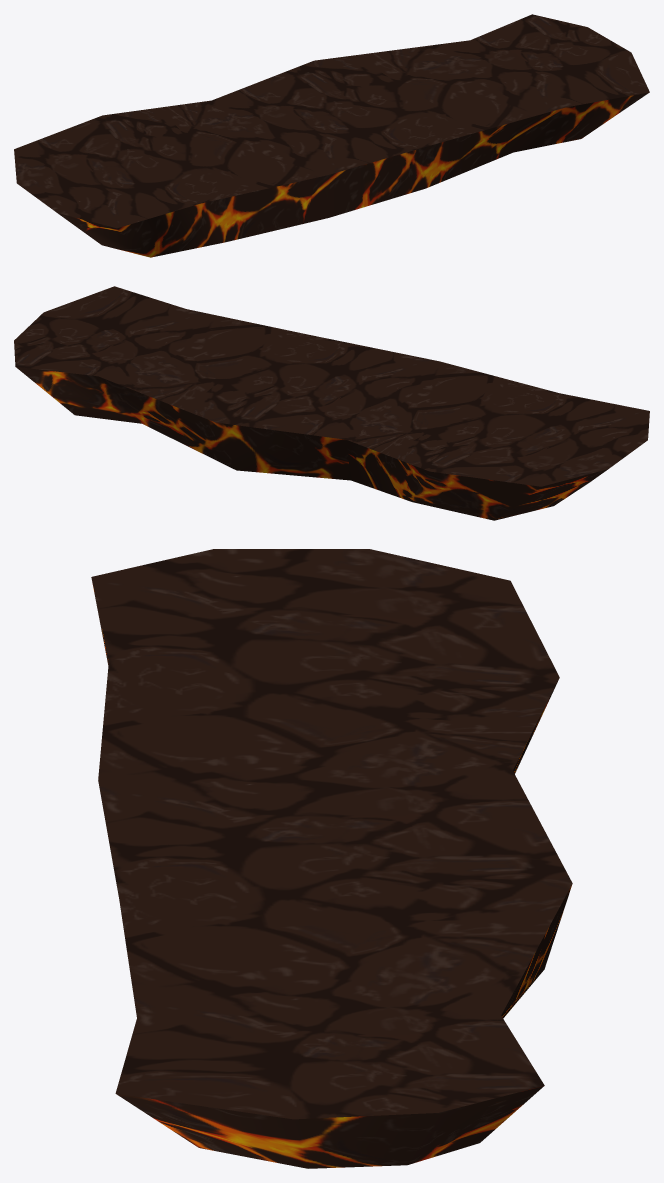
Rendered from platform_01.fbx.
3 views of the same model, one above another, from view 1: azimuth 30°, elevation 25°; view 2: azimuth 150°, elevation 25°; view 3: azimuth 270°, elevation 25° (orthographic). The views are drawn at different scales.
Parts seen in each view (by area): view 1: pCube6; view 2: pCube6; view 3: pCube6.
Boxes of the visible parts, x1,y1,x2,y2 form: pCube6: (14, 14, 649, 257); pCube6: (14, 286, 649, 520); pCube6: (91, 549, 572, 1168).
Bounding box in the file's own units: 3286 × 268 × 1172.
